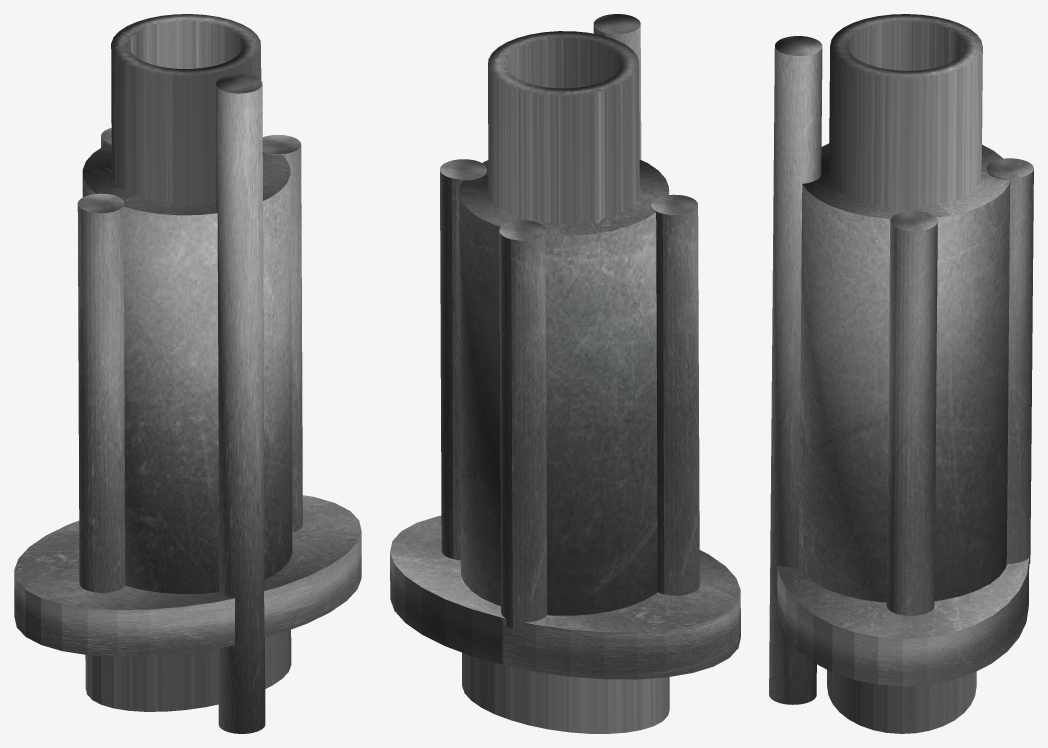
File: pieza29.fbx
3 views of the same model, side by side, from view 1: azimuth 30°, elevation 25°; view 2: azimuth 150°, elevation 25°; view 3: azimuth 270°, elevation 25° (orthographic).
Parts seen in each view (by area): view 1: Cylinder.032; view 2: Cylinder.032; view 3: Cylinder.032.
Boxes of the visible parts, box(x1,y1,x2,y2) form: Cylinder.032: box(14, 14, 361, 733); Cylinder.032: box(390, 14, 740, 733); Cylinder.032: box(769, 14, 1033, 733).
Bounding box in the file's own units: 198 × 373 × 138.
5 materials, 5 textured.
